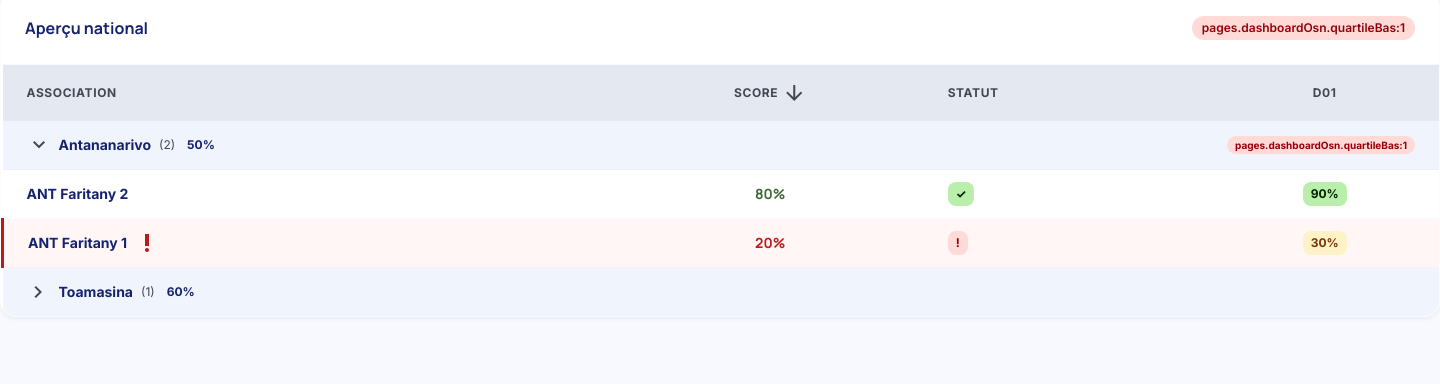
AsnComparisonTable — 33 lignes › révèle un groupe replié au clic
The width and height of the screenshot is (1440, 384).
Click the text "Toamasina": (96, 292) [58,282,133,302]
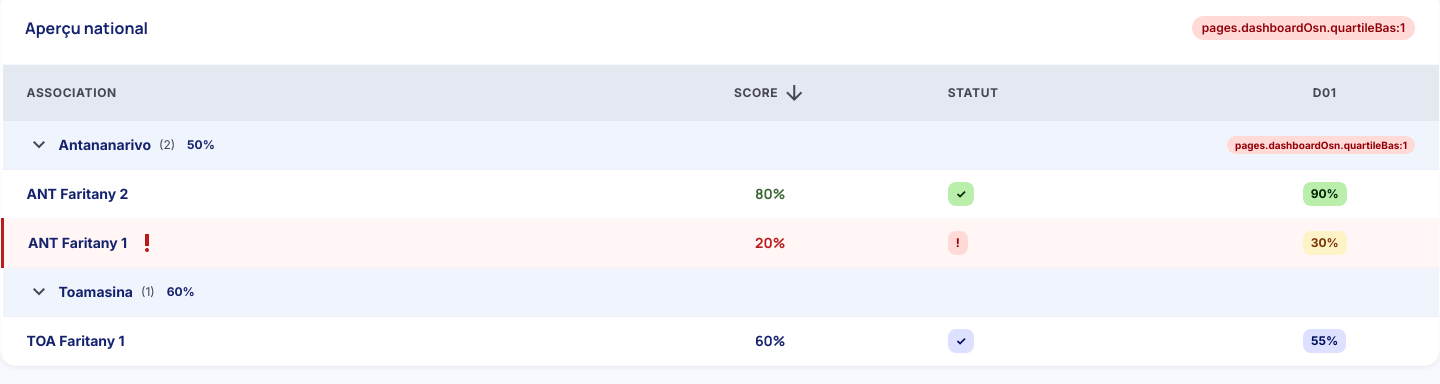
Expected: the text "TOA Faritany 1" is shown, [26,331,125,351]
